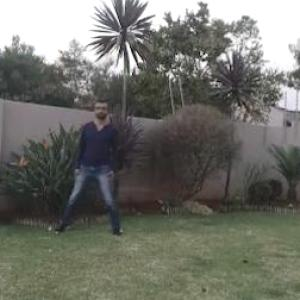follow: (77, 89, 119, 231)
